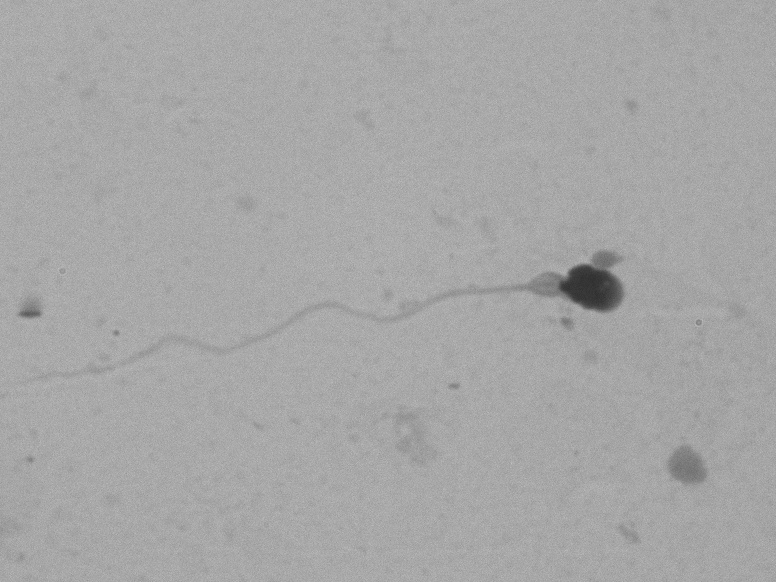Abnormal: (63, 249, 639, 414)
